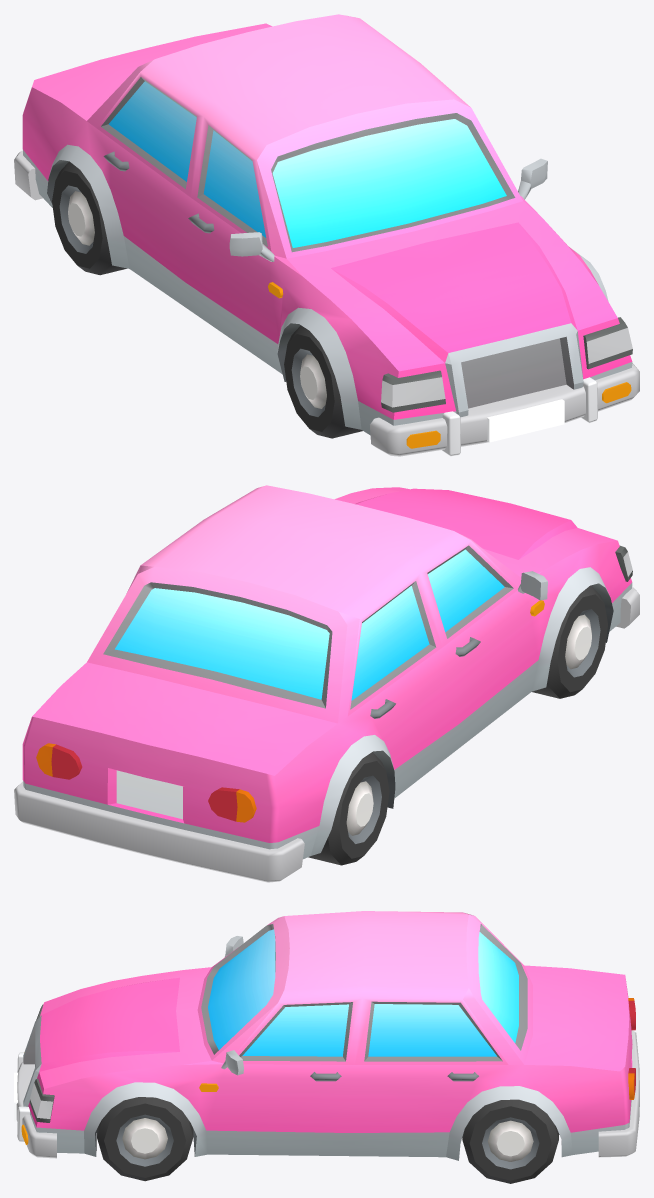
Rendered from city2-car-25.glb.
3 renders of one model, top to bottom at view 1: azimuth 30°, elevation 25°; view 2: azimuth 150°, elevation 25°; view 3: azimuth 270°, elevation 25°, orthographic. The views are drawn at different scales.
Visible parts, largest first — view 1: Car_25, Wheel_265, Wheel_266; view 2: Car_25, Wheel_266, Wheel_265; view 3: Car_25, Wheel_267, Wheel_268.
Part boxes in pixels (x1,y1,x2,y2): Car_25: (14,14,639,456); Wheel_265: (284,325,362,438); Wheel_266: (52,161,126,275); Car_25: (14,485,639,882); Wheel_266: (308,752,389,865); Wheel_265: (532,585,607,698); Car_25: (14,911,639,1160); Wheel_267: (97,1097,193,1181); Wheel_268: (462,1099,558,1183).
Bounding box in the file's own units: 2.62 × 1.81 × 5.5.
Materials: 2 (2 with a texture image).
